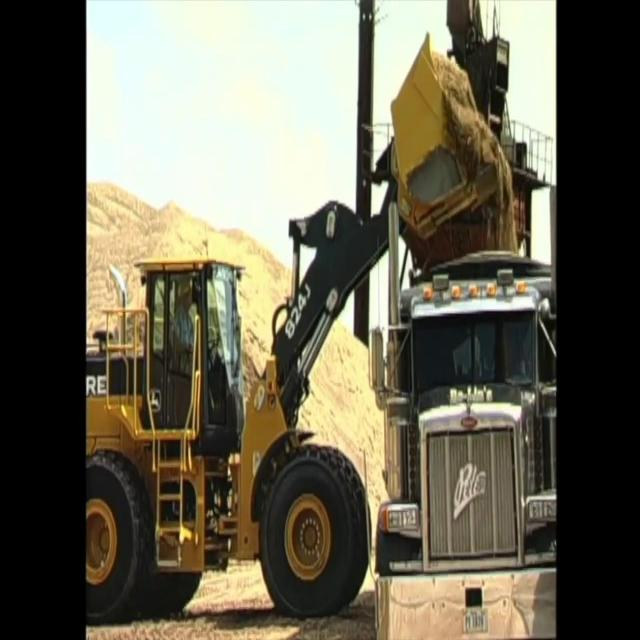buldozerpayloadergrader: (85, 18, 509, 620)
dump_truck: (360, 232, 556, 636)
